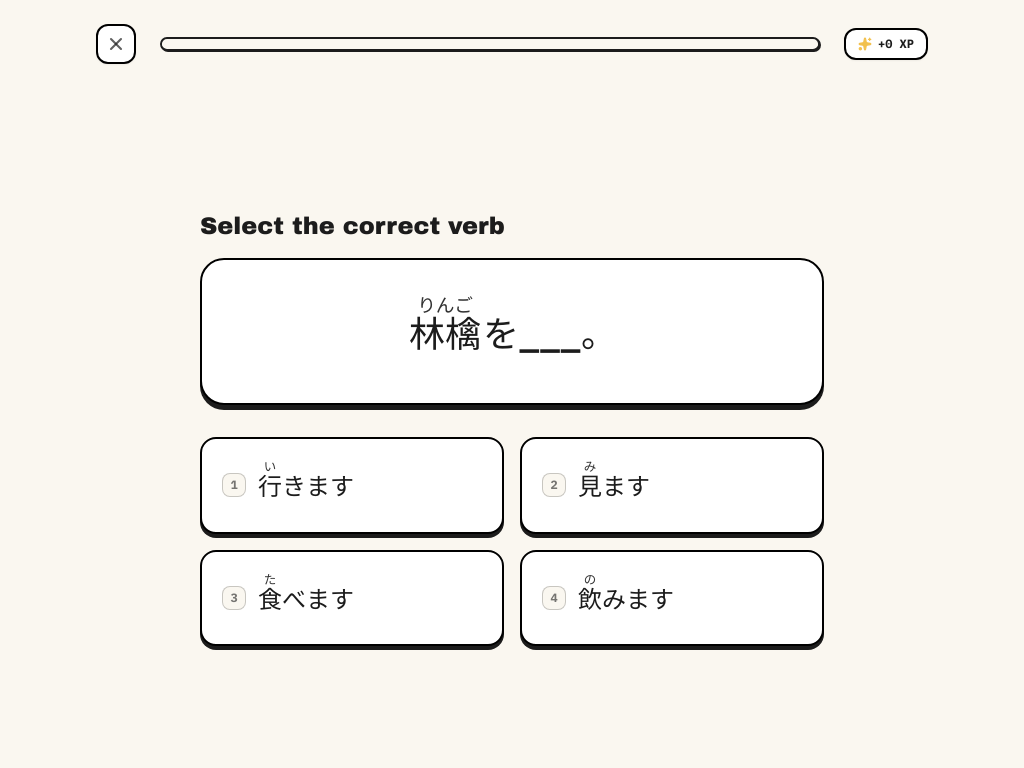
Test: VocabularyQuiz › renders questions and allows answering
Check: the text "林檎" is shown, box left=409, top=305, right=481, bottom=357
Click the button "1 行 い きます" at [352, 485], box left=200, top=437, right=504, bottom=534
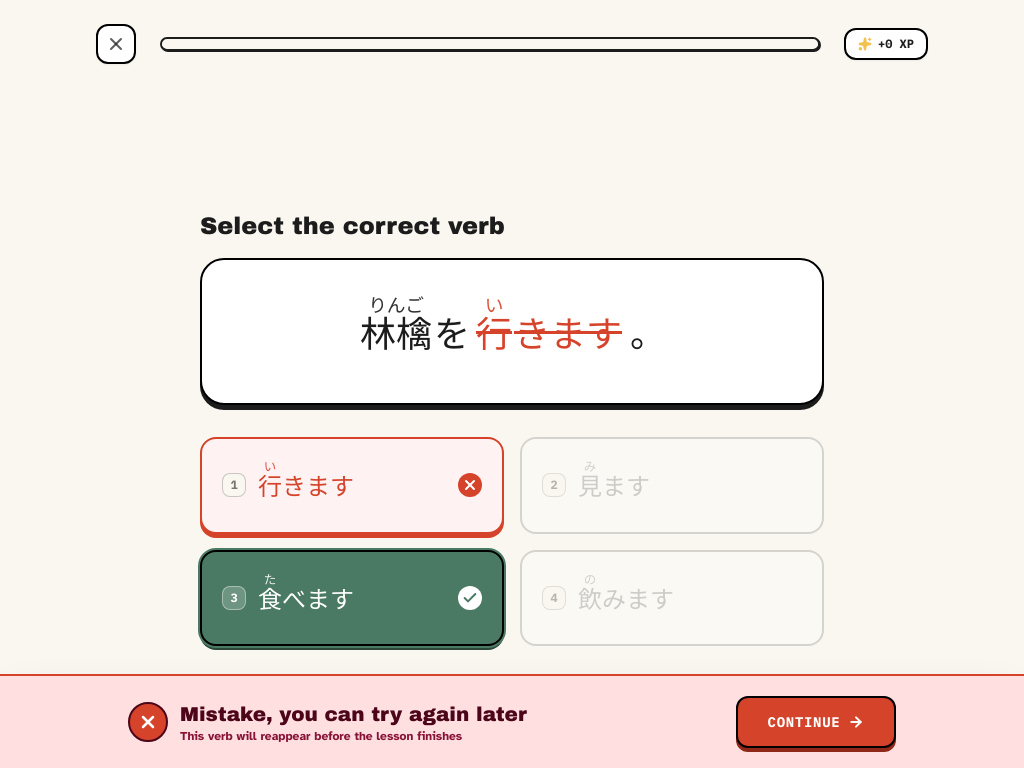
Check: the button "Continue" is shown, box left=736, top=696, right=896, bottom=748
